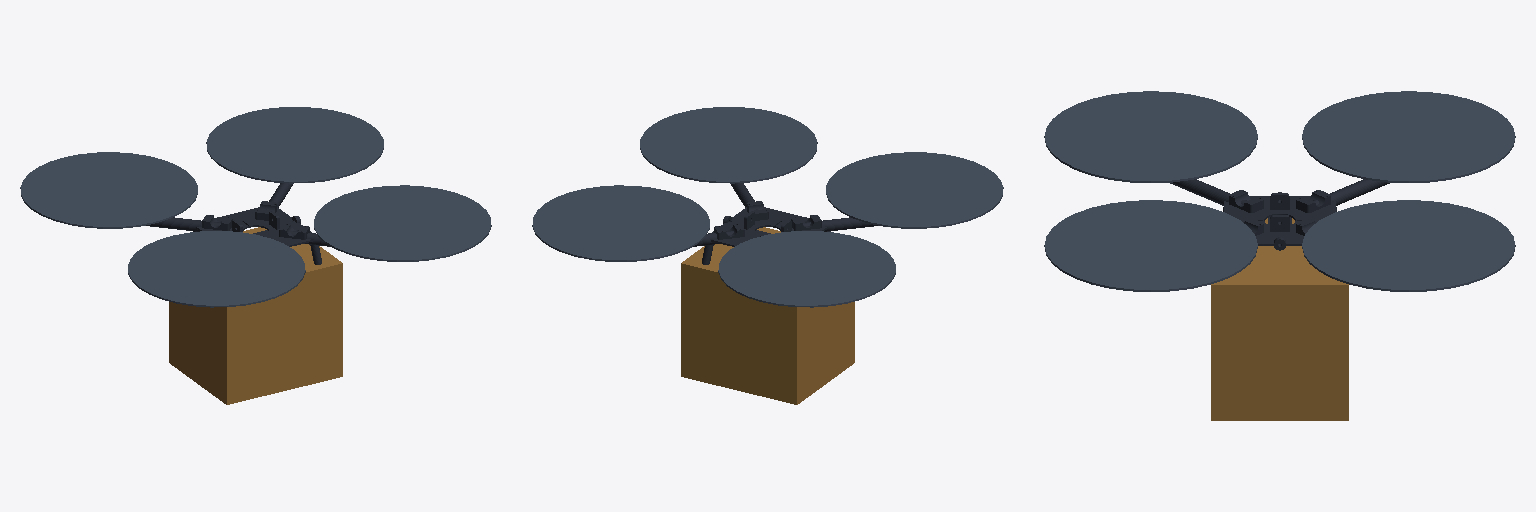
robot.urdf — delivery_quad:
<?xml version="1.0"?>
<!-- Delivery quadrotor, 650 mm wheelbase, 15in props, 1.5 kg gimballed payload.
     Units: metres, kg. base_link origin is at the airframe centre of mass.
     The cardan is modelled as two revolute joints so payload swing is
     simulated; do NOT collapse it into a fixed inertia. -->
<robot name="delivery_quad">

  <link name="base_link">
    <inertial>
      <origin xyz="0 0 0"/>
      <mass value="4.0700"/>
      <inertia ixx="0.077220" iyy="0.077220" izz="0.127661"
               ixy="0.000000" ixz="0.000000" iyz="0.000000"/>
    </inertial>
    <visual>
      <geometry><mesh filename="package://delivery_quad/meshes/airframe.stl"/></geometry>
      <material name="carbon"><color rgba="0.20 0.22 0.26 1"/></material>
    </visual>
    <collision>
      <origin xyz="0 0 0.0013"/>
      <geometry><box size="0.22 0.22 0.09"/></geometry>
    </collision>
    <collision>
      <origin xyz="0.1386 0.1386 -0.0047" rpy="0 1.5708 0.7854"/>
      <geometry><cylinder radius="0.0125" length="0.252"/></geometry>
    </collision>
    <collision>
      <origin xyz="-0.1386 0.1386 -0.0047" rpy="0 1.5708 2.3562"/>
      <geometry><cylinder radius="0.0125" length="0.252"/></geometry>
    </collision>
    <collision>
      <origin xyz="-0.1386 -0.1386 -0.0047" rpy="0 1.5708 -2.3562"/>
      <geometry><cylinder radius="0.0125" length="0.252"/></geometry>
    </collision>
    <collision>
      <origin xyz="0.1386 -0.1386 -0.0047" rpy="0 1.5708 -0.7854"/>
      <geometry><cylinder radius="0.0125" length="0.252"/></geometry>
    </collision>
  </link>

  <link name="rotor_0">
    <inertial><mass value="0.030"/>
      <inertia ixx="1.0e-4" iyy="1.0e-4" izz="2.0e-4" ixy="0" ixz="0" iyz="0"/>
    </inertial>
    <visual><geometry><cylinder radius="0.1905" length="0.004"/></geometry>
      <material name="prop"><color rgba="0.3 0.34 0.4 0.35"/></material></visual>
  </link>
  <joint name="rotor_0_joint" type="continuous">
    <parent link="base_link"/><child link="rotor_0"/>
    <origin xyz="0.2298 0.2298 0.0513"/><axis xyz="0 0 1"/>
  </joint>
  <link name="rotor_1">
    <inertial><mass value="0.030"/>
      <inertia ixx="1.0e-4" iyy="1.0e-4" izz="2.0e-4" ixy="0" ixz="0" iyz="0"/>
    </inertial>
    <visual><geometry><cylinder radius="0.1905" length="0.004"/></geometry>
      <material name="prop"><color rgba="0.3 0.34 0.4 0.35"/></material></visual>
  </link>
  <joint name="rotor_1_joint" type="continuous">
    <parent link="base_link"/><child link="rotor_1"/>
    <origin xyz="-0.2298 0.2298 0.0513"/><axis xyz="0 0 1"/>
  </joint>
  <link name="rotor_2">
    <inertial><mass value="0.030"/>
      <inertia ixx="1.0e-4" iyy="1.0e-4" izz="2.0e-4" ixy="0" ixz="0" iyz="0"/>
    </inertial>
    <visual><geometry><cylinder radius="0.1905" length="0.004"/></geometry>
      <material name="prop"><color rgba="0.3 0.34 0.4 0.35"/></material></visual>
  </link>
  <joint name="rotor_2_joint" type="continuous">
    <parent link="base_link"/><child link="rotor_2"/>
    <origin xyz="-0.2298 -0.2298 0.0513"/><axis xyz="0 0 1"/>
  </joint>
  <link name="rotor_3">
    <inertial><mass value="0.030"/>
      <inertia ixx="1.0e-4" iyy="1.0e-4" izz="2.0e-4" ixy="0" ixz="0" iyz="0"/>
    </inertial>
    <visual><geometry><cylinder radius="0.1905" length="0.004"/></geometry>
      <material name="prop"><color rgba="0.3 0.34 0.4 0.35"/></material></visual>
  </link>
  <joint name="rotor_3_joint" type="continuous">
    <parent link="base_link"/><child link="rotor_3"/>
    <origin xyz="0.2298 -0.2298 0.0513"/><axis xyz="0 0 1"/>
  </joint>

  <!-- passive cardan: gravity levels the payload, no actuator -->
  <link name="cardan_ring">
    <inertial><mass value="0.060"/>
      <inertia ixx="1e-4" iyy="1e-4" izz="1.8e-4" ixy="0" ixz="0" iyz="0"/>
    </inertial>
  </link>
  <joint name="cardan_roll" type="revolute">
    <parent link="base_link"/><child link="cardan_ring"/>
    <origin xyz="0 0 -0.0687"/><axis xyz="1 0 0"/>
    <limit lower="-0.436" upper="0.436" effort="0" velocity="10"/>
    <dynamics damping="0.02" friction="0.01"/>
  </joint>

  <link name="payload">
    <inertial><origin xyz="0 0 -0.1300"/>
      <mass value="1.5000"/>
      <inertia ixx="0.016666" iyy="0.019346" izz="0.018056"
               ixy="0" ixz="0" iyz="0"/>
    </inertial>
    <visual><origin xyz="0 0 -0.1300"/>
      <geometry><box size="0.288 0.248 0.268"/></geometry>
      <material name="bay"><color rgba="0.62 0.47 0.26 1"/></material>
    </visual>
    <collision><origin xyz="0 0 -0.1300"/>
      <geometry><box size="0.288 0.248 0.268"/></geometry>
    </collision>
  </link>
  <joint name="cardan_pitch" type="revolute">
    <parent link="cardan_ring"/><child link="payload"/>
    <origin xyz="0 0 0"/><axis xyz="0 1 0"/>
    <limit lower="-0.436" upper="0.436" effort="0" velocity="10"/>
    <dynamics damping="0.02" friction="0.01"/>
  </joint>
</robot>

--- Facts derived from the render (not from the file) ---
The picture shows the robot from 3 angles, left to right: view 1: azimuth 30°, elevation 25°; view 2: azimuth 150°, elevation 25°; view 3: azimuth 270°, elevation 25°; orthographic projection.
Robot: delivery_quad — 7 links, 6 joints (2 revolute, 4 continuous); root link base_link; default pose: every joint at zero.
Links seen in each view (by area): view 1: payload, rotor_1, rotor_3, rotor_0, rotor_2, base_link; view 2: payload, rotor_2, rotor_0, rotor_3, rotor_1, base_link; view 3: payload, rotor_0, rotor_3, rotor_1, rotor_2, base_link.
Link boxes in pixels (x1=…): payload: x1=169, y1=227, x2=342, y2=404; rotor_1: x1=20, y1=152, x2=197, y2=228; rotor_3: x1=314, y1=185, x2=491, y2=261; rotor_0: x1=206, y1=107, x2=383, y2=183; rotor_2: x1=128, y1=231, x2=305, y2=307; base_link: x1=146, y1=183, x2=330, y2=264; payload: x1=681, y1=227, x2=854, y2=404; rotor_2: x1=826, y1=152, x2=1003, y2=228; rotor_0: x1=532, y1=185, x2=709, y2=261; rotor_3: x1=640, y1=107, x2=817, y2=183; rotor_1: x1=718, y1=231, x2=895, y2=307; base_link: x1=693, y1=183, x2=877, y2=264; payload: x1=1211, y1=218, x2=1348, y2=420; rotor_0: x1=1302, y1=200, x2=1515, y2=291; rotor_3: x1=1044, y1=200, x2=1257, y2=291; rotor_1: x1=1302, y1=91, x2=1515, y2=182; rotor_2: x1=1044, y1=91, x2=1257, y2=182; base_link: x1=1170, y1=179, x2=1389, y2=250.
Size in the robot's own frame: 0.8406 by 0.8406 by 0.386 metres.
1 mesh visuals loaded from 1 distinct referenced files (1 binary STL).
